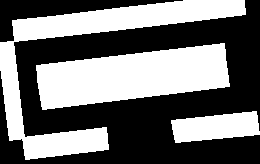parkingspot: (12, 0, 245, 41), (38, 64, 229, 109), (36, 43, 226, 88), (22, 127, 108, 159), (171, 111, 259, 142), (0, 41, 24, 140)
